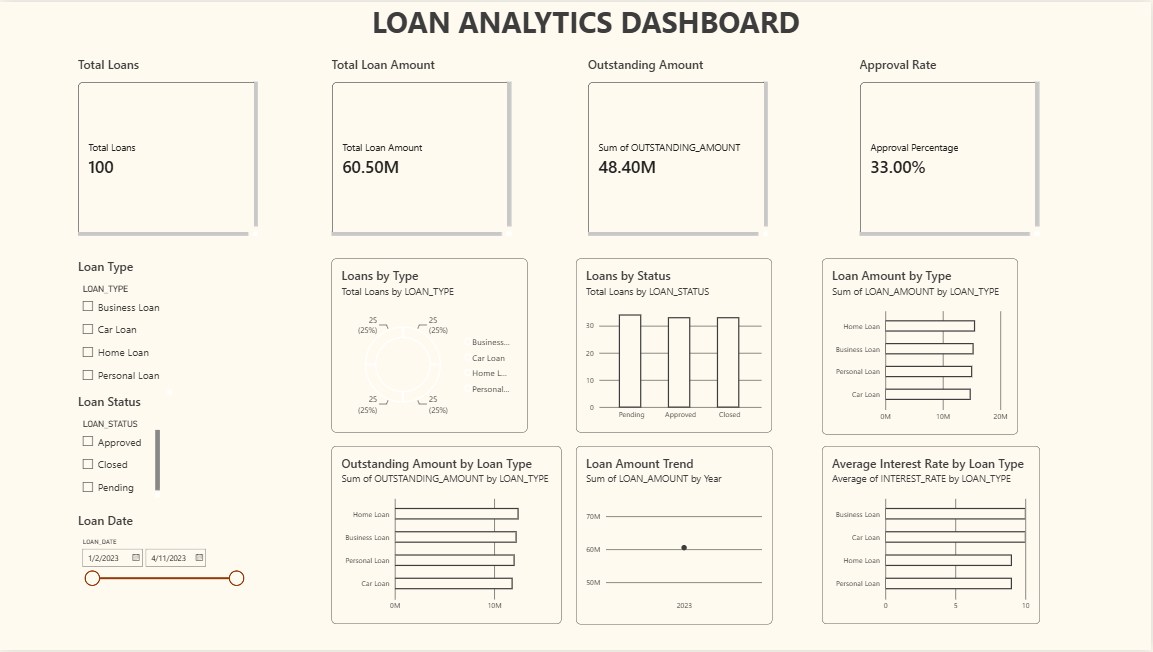

The page's visual inventory and layout, read from the dashboard file:
{"tool":"powerbi","page":{"name":"Loan Dashboard","canvas":[1920,1080],"ordinal":4},"visuals":[{"type":"textbox","box":[620,0,720,90],"z":0},{"type":"cardVisual","title":"Total Loans","fields":{"Data":["LOANS.Total Loans"]},"box":[130,90,300,300],"z":1000},{"type":"cardVisual","title":"Total Loan Amount","fields":{"Data":["LOANS.Total Loan Amount"]},"box":[553.3,90,300,300],"z":2000},{"type":"cardVisual","title":"Outstanding Amount","fields":{"Data":["Sum(LOANS.OUTSTANDING_AMOUNT)"]},"box":[980,90,300,300],"z":3000},{"type":"cardVisual","title":"Approval Rate","fields":{"Data":["LOANS.Approval Percentage"]},"box":[1433.3,90,300,300],"z":4000},{"type":"slicer","title":"Loan Type","fields":{"Values":["LOANS.LOAN_TYPE"]},"box":[130,426.7,156.7,226.7],"z":5000},{"type":"slicer","title":"Loan Status","fields":{"Values":["LOANS.LOAN_STATUS"]},"box":[130,653.3,136.7,173.3],"z":6000},{"type":"slicer","title":"Loan Date","fields":{"Values":["LOANS.LOAN_DATE"]},"box":[130,850,280,150],"z":7000},{"type":"donutChart","title":"Loans by Type","fields":{"Category":["LOANS.LOAN_TYPE"],"Y":["LOANS.Total Loans"]},"box":[553.3,426.7,326.7,290],"z":8000},{"type":"clusteredColumnChart","title":"Loans by Status","fields":{"Category":["LOANS.LOAN_STATUS"],"Y":["LOANS.Total Loans"]},"box":[960,426.7,326.7,290],"z":9000},{"type":"clusteredBarChart","title":"Loan Amount by Type","fields":{"Category":["LOANS.LOAN_TYPE"],"Y":["Sum(LOANS.LOAN_AMOUNT)"]},"box":[1370,426.7,326.7,293.3],"z":10000},{"type":"clusteredBarChart","title":"Outstanding Amount by Loan Type","fields":{"Category":["LOANS.LOAN_TYPE"],"Y":["Sum(LOANS.OUTSTANDING_AMOUNT)"]},"box":[553.3,740,383.3,296.7],"z":11000},{"type":"lineChart","title":"Loan Amount Trend","fields":{"Category":["LOANS.LOAN_DATE.Variation.Date Hierarchy.Year","LOANS.LOAN_DATE.Variation.Date Hierarchy.Quarter","LOANS.LOAN_DATE.Variation.Date Hierarchy.Month","LOANS.LOAN_DATE.Variation.Date Hierarchy.Day"],"Y":["Sum(LOANS.LOAN_AMOUNT)"]},"box":[960,740,327,297],"z":12000},{"type":"clusteredBarChart","title":"Average Interest Rate by Loan Type","fields":{"Category":["LOANS.LOAN_TYPE"],"Y":["Avg(LOANS.INTEREST_RATE)"]},"box":[1370,740,363.3,296.7],"z":13000}]}

Visuals, with their boxes in screenshot pixels (x1, y1, x2, y2), scaled from the page's 1920x1080 canvas onto the 1153x652 screenshot:
textbox: {"left": 372, "top": 0, "right": 805, "bottom": 54}
"Total Loans" cardVisual: {"left": 78, "top": 54, "right": 258, "bottom": 235}
"Total Loan Amount" cardVisual: {"left": 332, "top": 54, "right": 512, "bottom": 235}
"Outstanding Amount" cardVisual: {"left": 589, "top": 54, "right": 769, "bottom": 235}
"Approval Rate" cardVisual: {"left": 861, "top": 54, "right": 1041, "bottom": 235}
"Loan Type" slicer: {"left": 78, "top": 258, "right": 172, "bottom": 394}
"Loan Status" slicer: {"left": 78, "top": 394, "right": 160, "bottom": 499}
"Loan Date" slicer: {"left": 78, "top": 513, "right": 246, "bottom": 604}
"Loans by Type" donutChart: {"left": 332, "top": 258, "right": 528, "bottom": 433}
"Loans by Status" clusteredColumnChart: {"left": 576, "top": 258, "right": 773, "bottom": 433}
"Loan Amount by Type" clusteredBarChart: {"left": 823, "top": 258, "right": 1019, "bottom": 435}
"Outstanding Amount by Loan Type" clusteredBarChart: {"left": 332, "top": 447, "right": 562, "bottom": 626}
"Loan Amount Trend" lineChart: {"left": 576, "top": 447, "right": 773, "bottom": 626}
"Average Interest Rate by Loan Type" clusteredBarChart: {"left": 823, "top": 447, "right": 1041, "bottom": 626}
